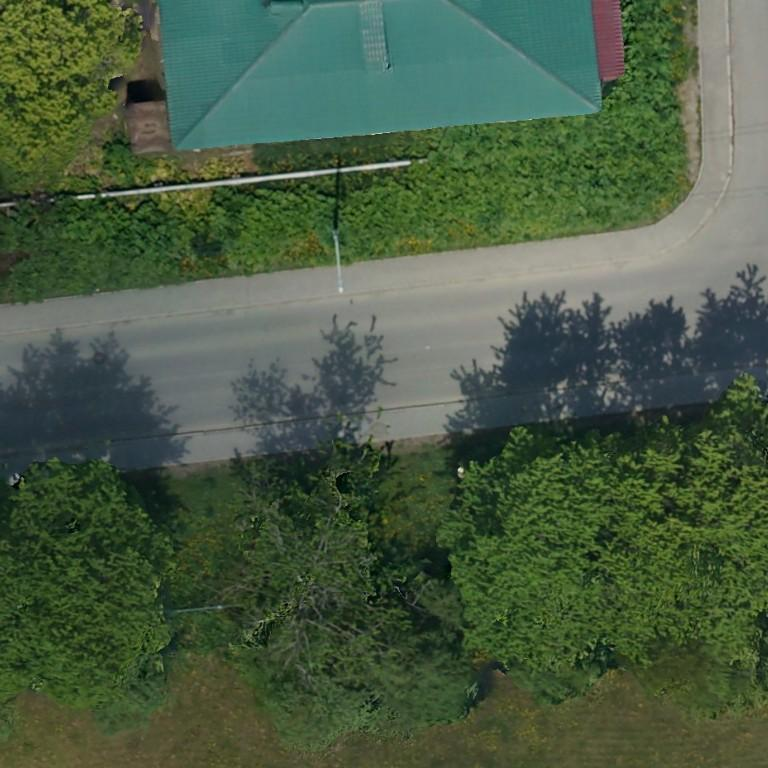hogweed: (208, 0, 686, 263), (0, 195, 197, 299), (105, 142, 137, 173)
